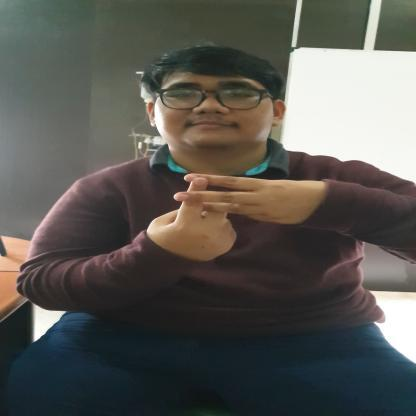B: (150, 169, 306, 264)
